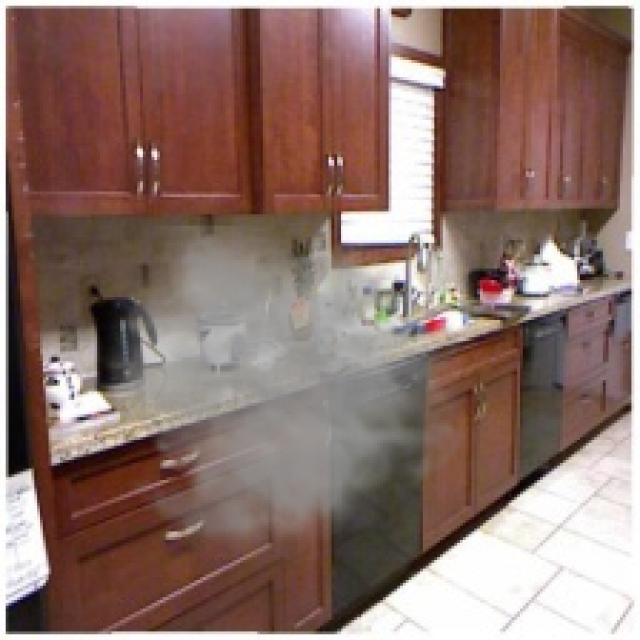smoke: (94, 226, 469, 574)
